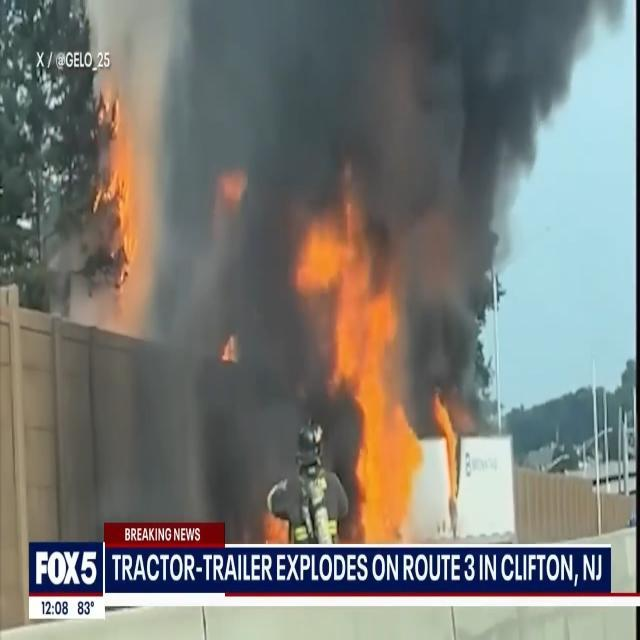fire: (337, 260, 413, 538), (82, 89, 148, 292), (298, 220, 371, 288), (218, 332, 238, 362)
